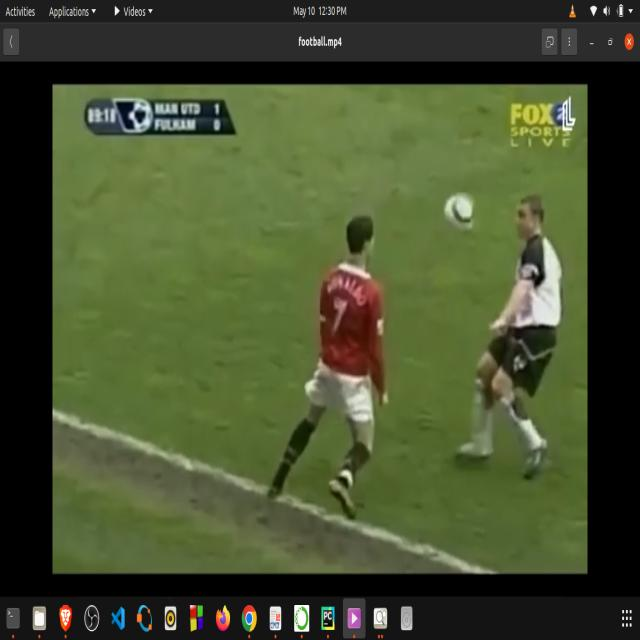Ball: (435, 185, 487, 237)
football-players: (254, 196, 397, 538), (473, 180, 565, 489)
